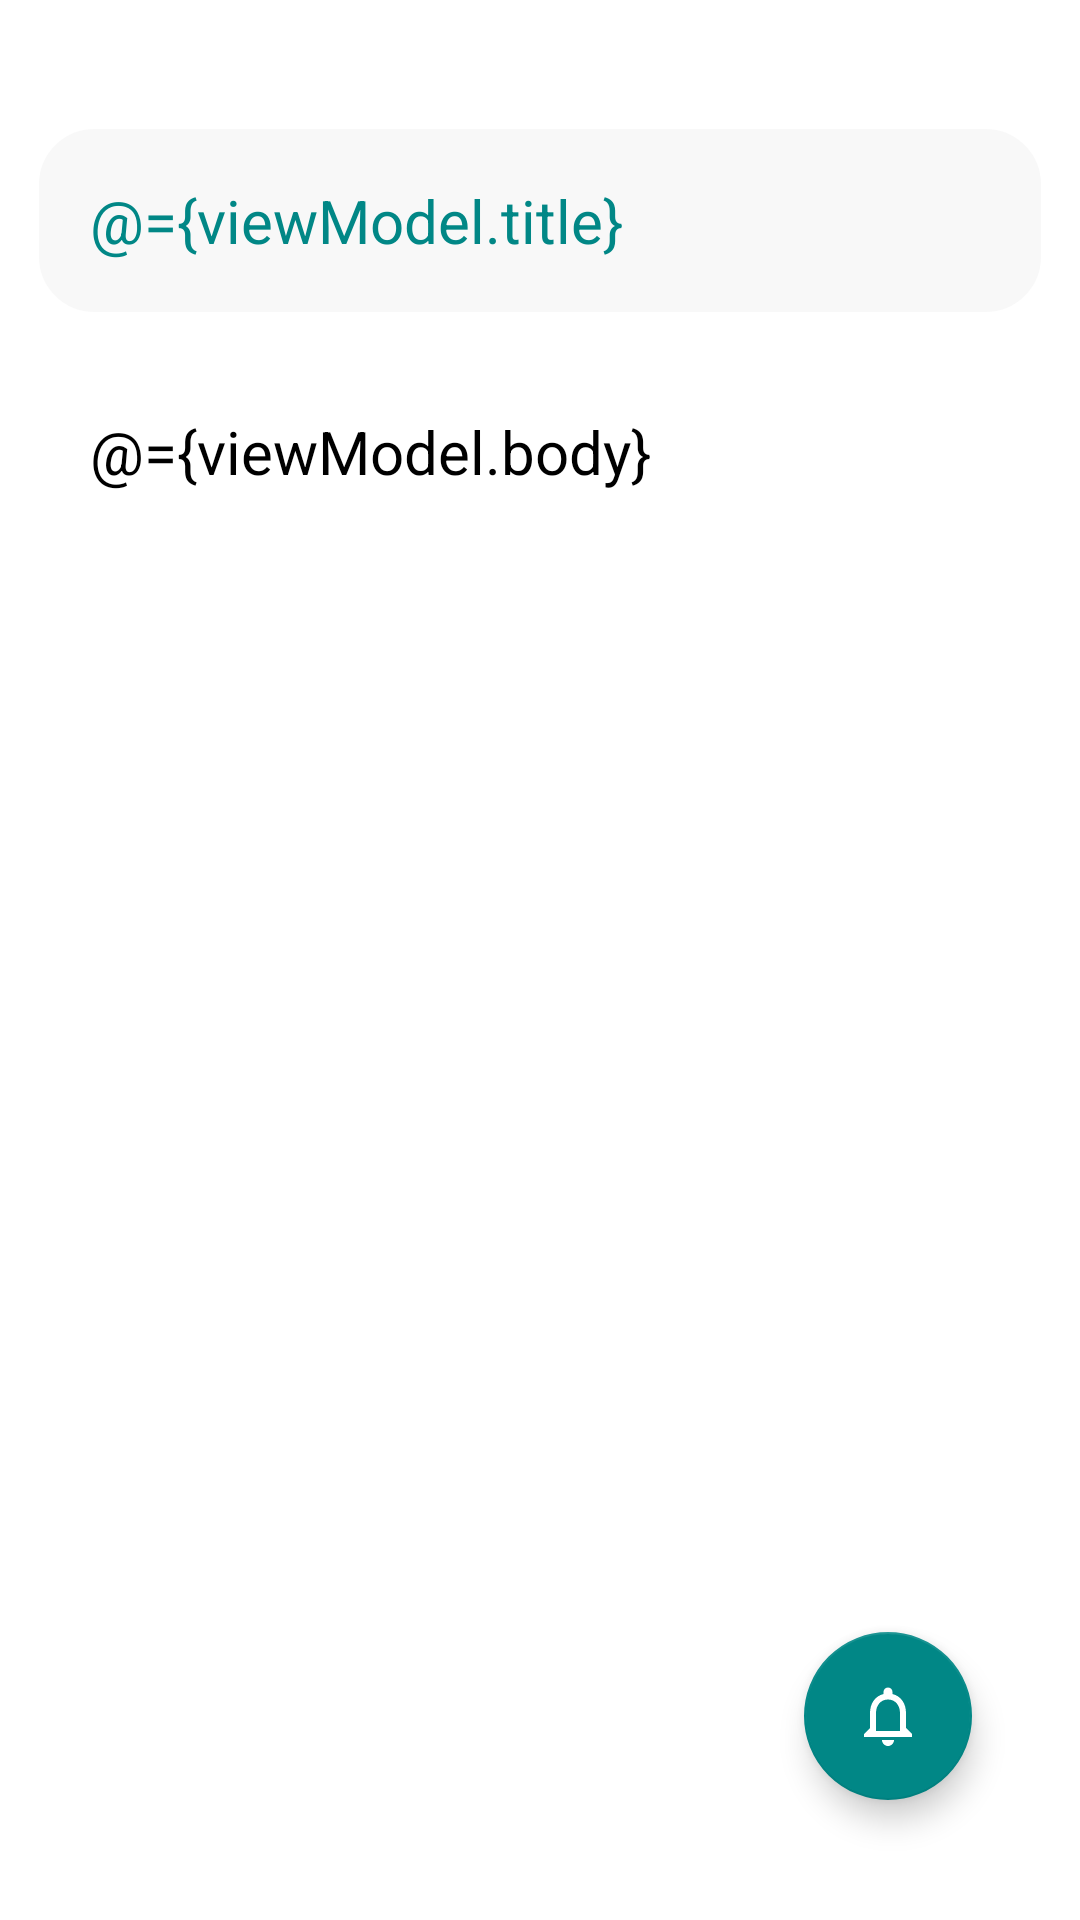

Screen size 1080 × 1920. Icon name, then its center in pixels as [x,y]:
notifications: [888,1716]
